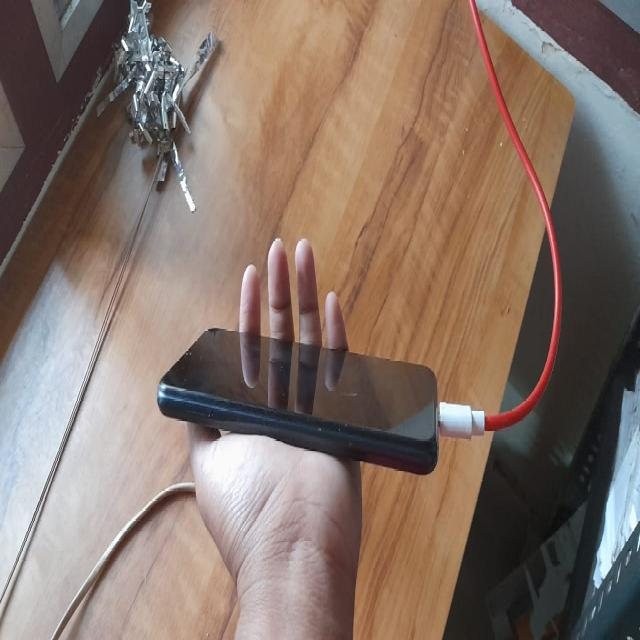Mobile - Recyclable: (142, 306, 453, 512)
